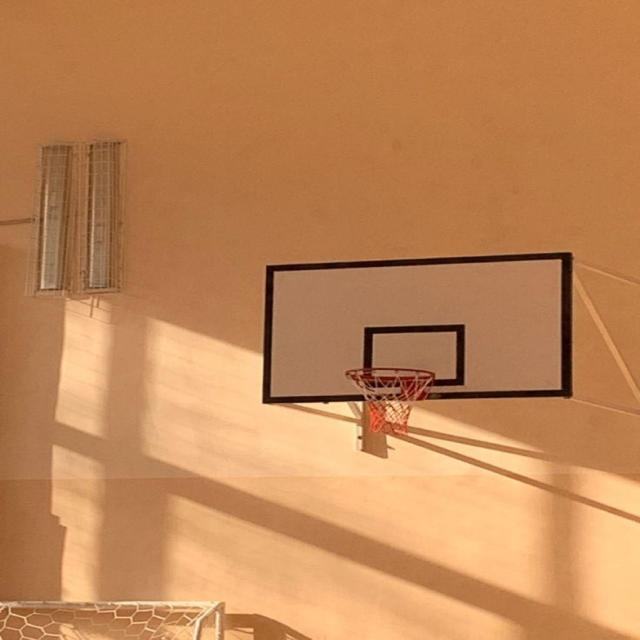hoop: (332, 344, 458, 449)
